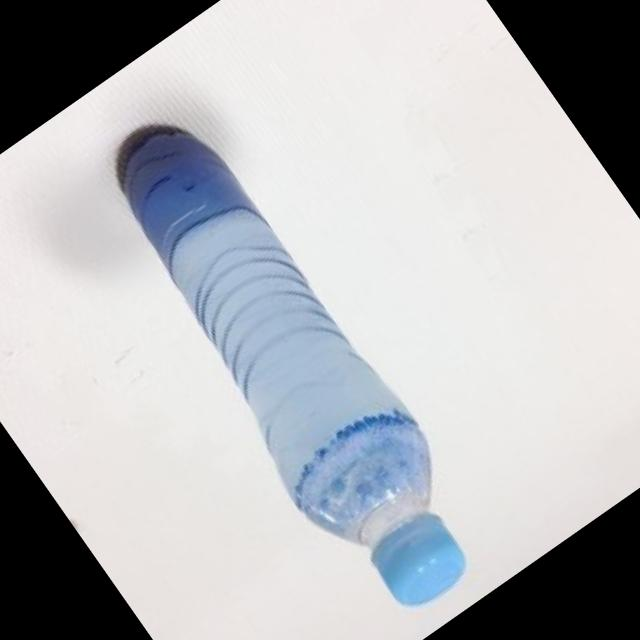BotolPlastik: (70, 99, 508, 636)
